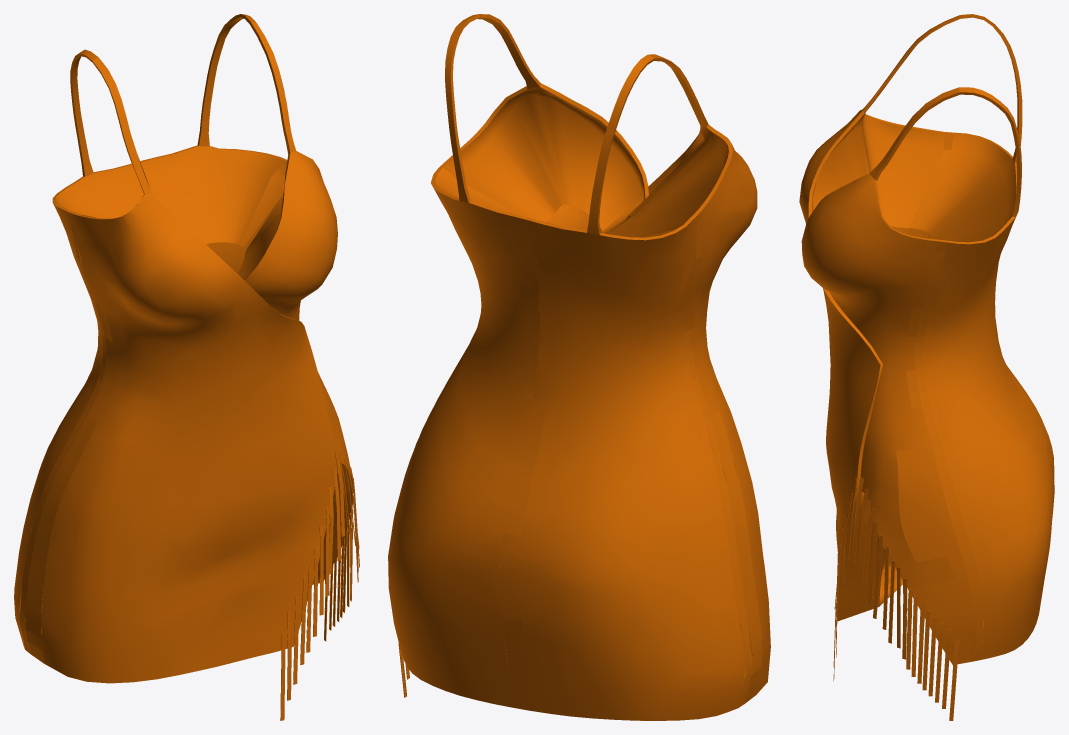
The model's file is vestidofem2.glb.
The picture shows the model from 3 angles, left to right: view 1: azimuth 30°, elevation 25°; view 2: azimuth 150°, elevation 25°; view 3: azimuth 270°, elevation 25°; orthographic projection. The views are drawn at different scales.
Visible parts, largest first — view 1: hash_B2A32F1C.model; view 2: hash_B2A32F1C.model; view 3: hash_B2A32F1C.model.
Part boxes in pixels (<box>): hash_B2A32F1C.model: <box>14,14,359,720</box>; hash_B2A32F1C.model: <box>388,14,770,720</box>; hash_B2A32F1C.model: <box>799,14,1054,720</box>.
Size of the model in its own units: 0.4223 by 0.8329 by 0.3152.
